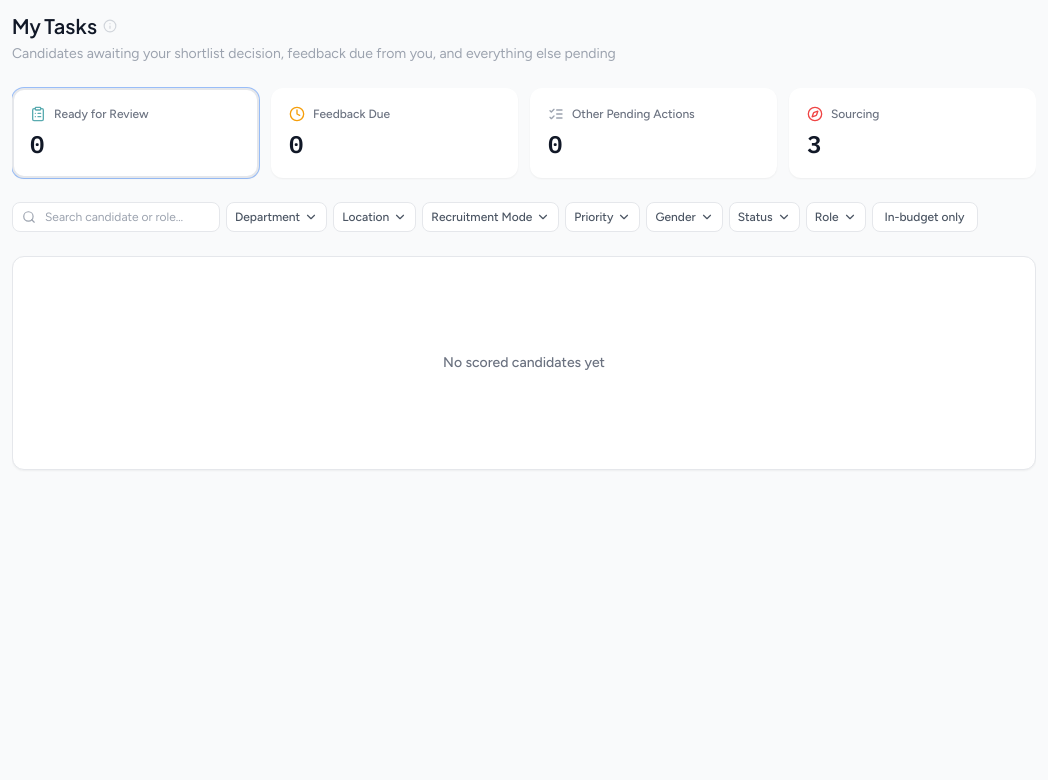
My Tasks — the Sourcing box › the weekly-target header line › counts the roles the queue reports, with the singular "1 role"
This screenshot has width=1048, height=780.
Click the button "Sourcing 3".
click(912, 133)  # box [789, 88, 1036, 178]
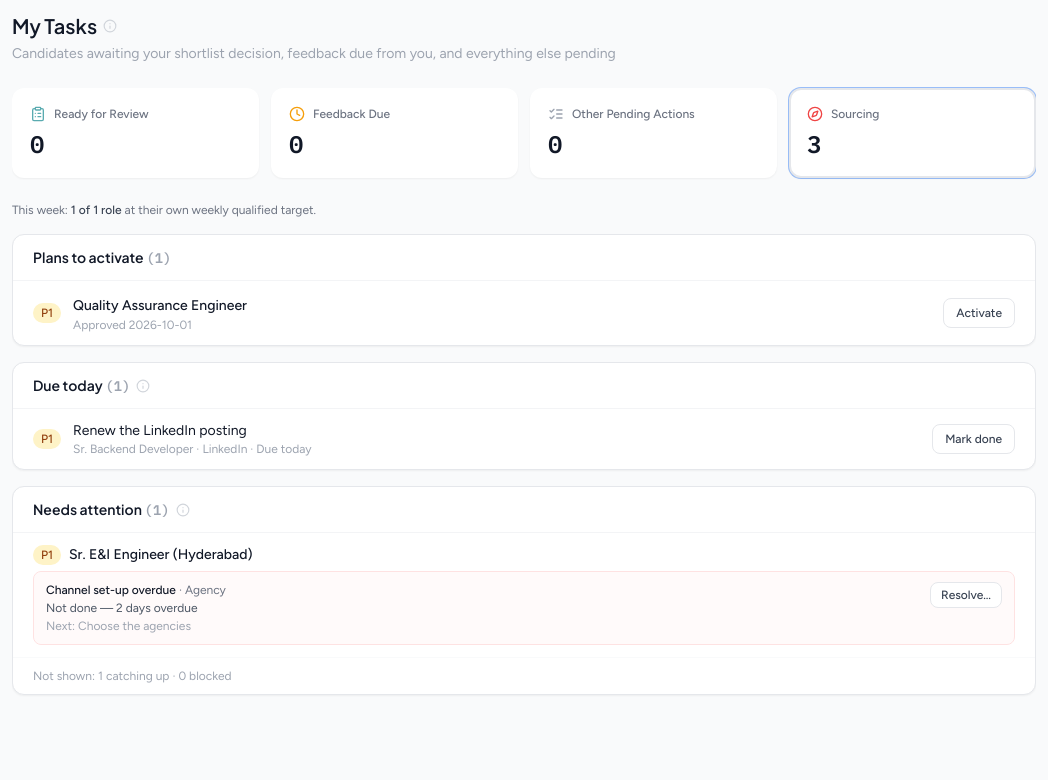
Check: the element with test id "sourcing-targets" reads "This week: 1 of 1 role at their own weekly qualified target.", box [12, 202, 316, 218]
